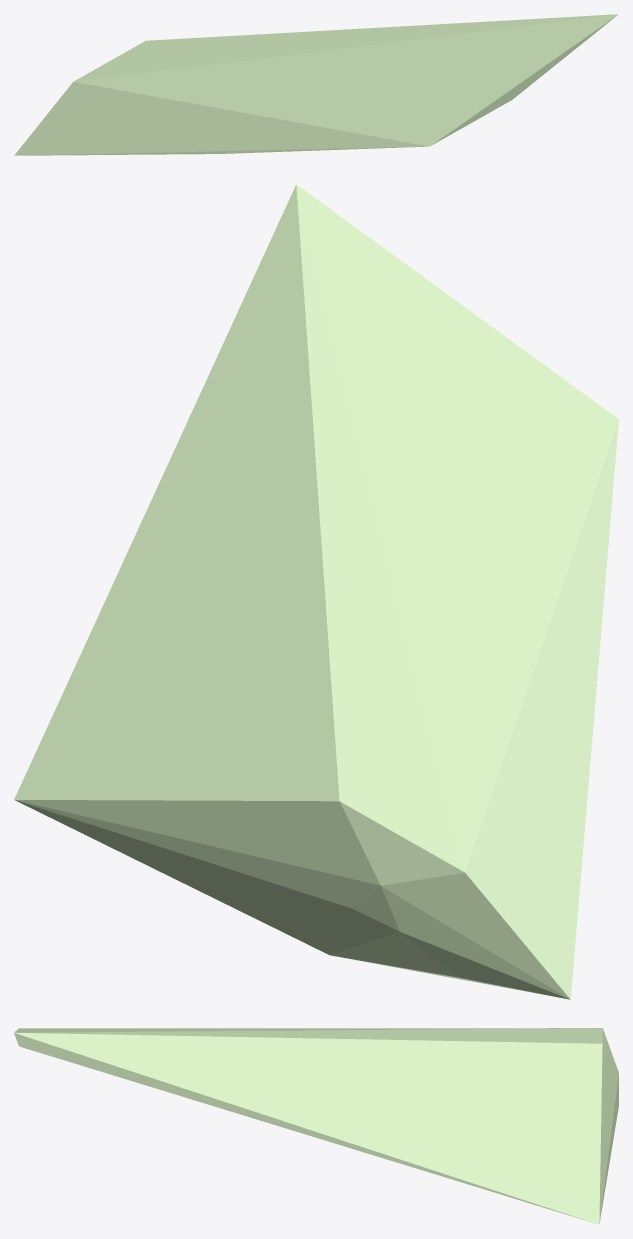
File: kuka_robot_base_coll_7.dae
3 renders of one model, top to bottom at view 1: azimuth 30°, elevation 25°; view 2: azimuth 150°, elevation 25°; view 3: azimuth 270°, elevation 25°, orthographic. The views are drawn at different scales.
Visible parts, largest first — view 1: Node_0000015C5C912E10; view 2: Node_0000015C5C912E10; view 3: Node_0000015C5C912E10.
Boxes of the visible parts, x1,y1,x2,y2 form: Node_0000015C5C912E10: [14, 14, 618, 155]; Node_0000015C5C912E10: [14, 184, 618, 999]; Node_0000015C5C912E10: [14, 1028, 618, 1224].
Bounding box in the file's own units: 0.0696 × 0.0383 × 0.0729.
